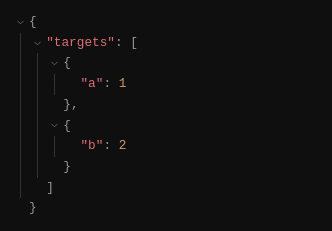
Scenario: JsonTree › names array items by index and keeps the folded braces out of the tab order
Click the button named "Collapse item 1": click(55, 126) [46,116,63,136]
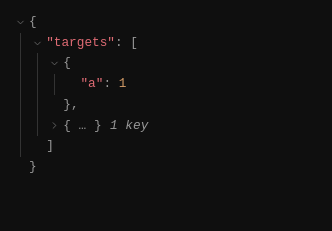
Expected: the button named "Collapse item 0" is shown, [46,53,63,74]
Expected: the button named "Expand item 1" is shown, [46,116,63,136]
